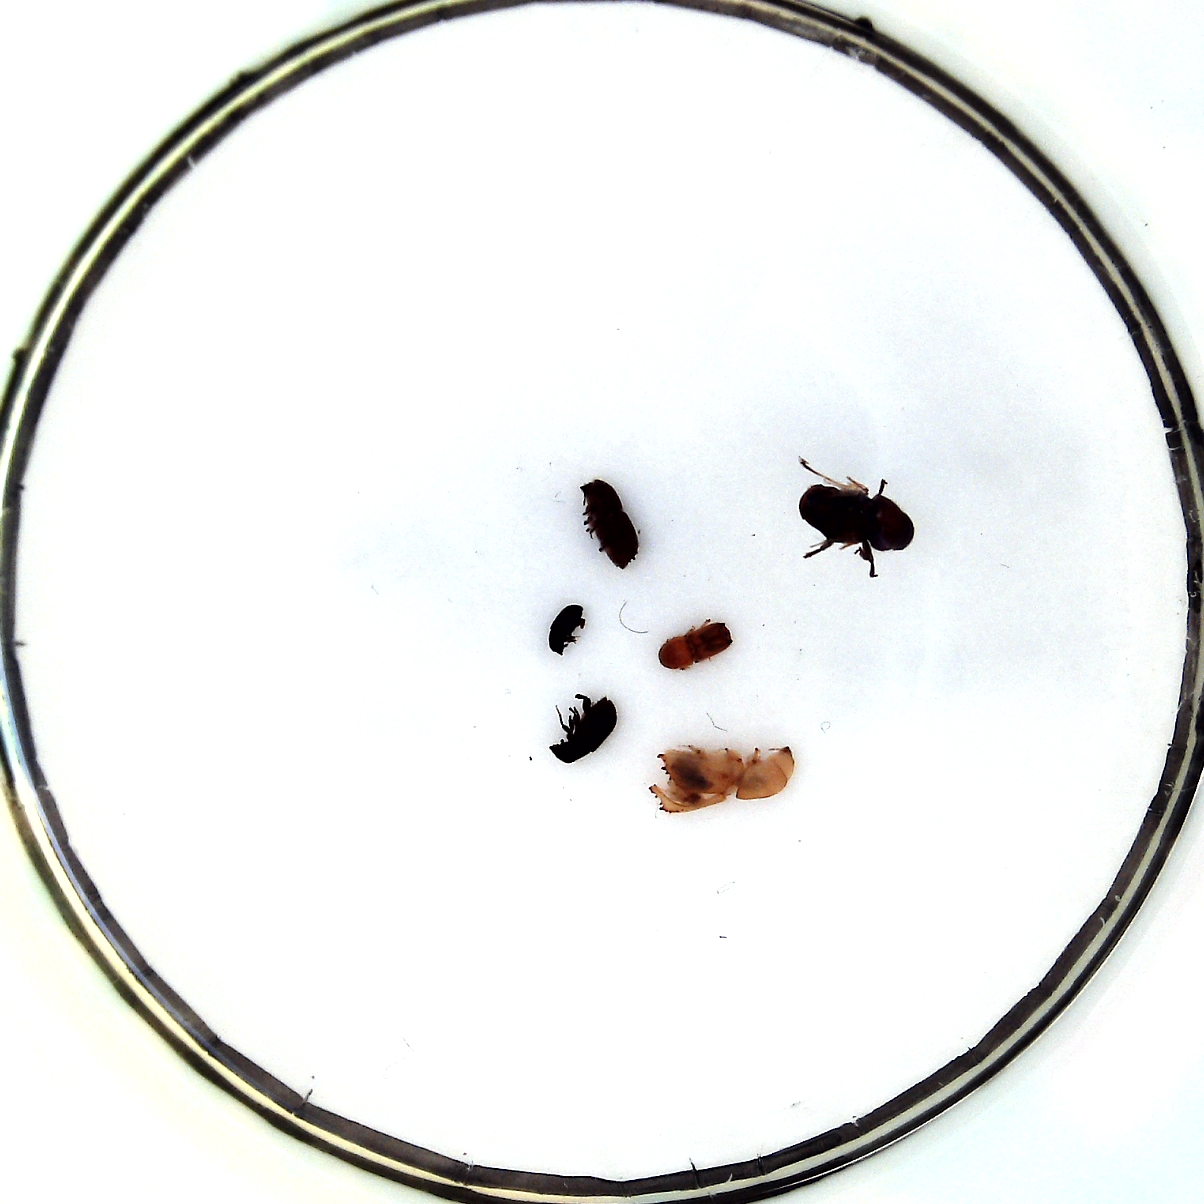Boerner: (649, 744, 794, 813)
Leconte: (800, 483, 914, 551)
acuminatus: (548, 604, 585, 656)
armandi: (550, 697, 617, 764)
linnaeus: (580, 479, 639, 571), (658, 623, 733, 670)
